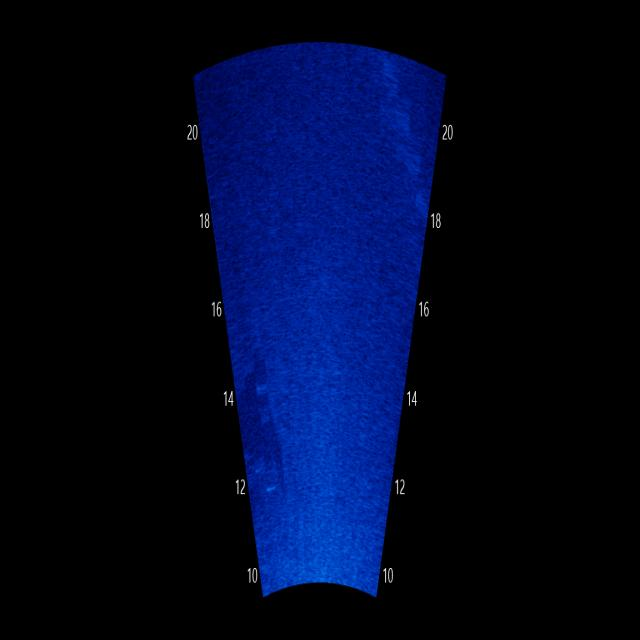triangle: (232, 348, 295, 512)
